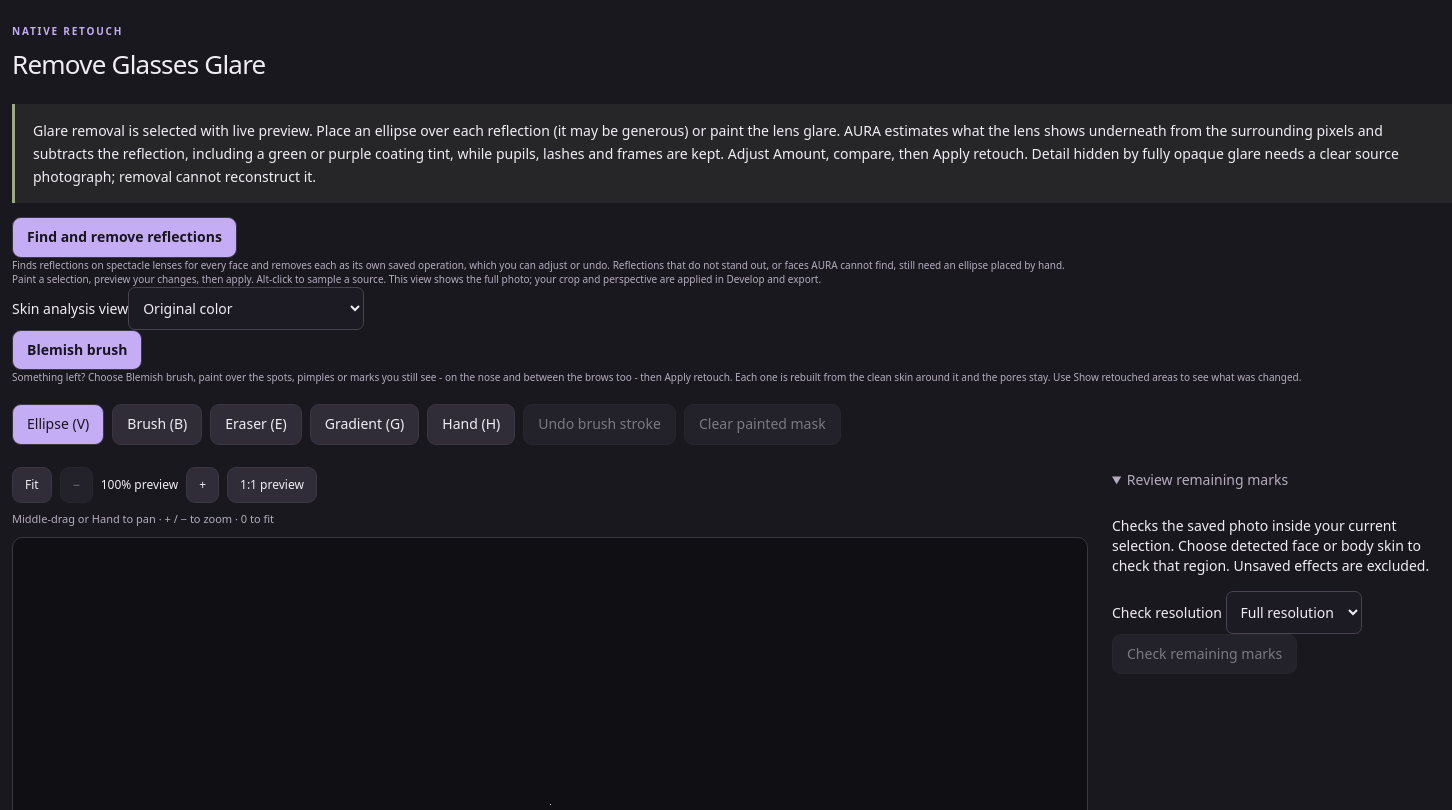
reports when no lens reflection is found and saves nothing
This screenshot has width=1452, height=810.
Click the button "Find and remove reflections" at (124, 237), box [12, 217, 237, 258]
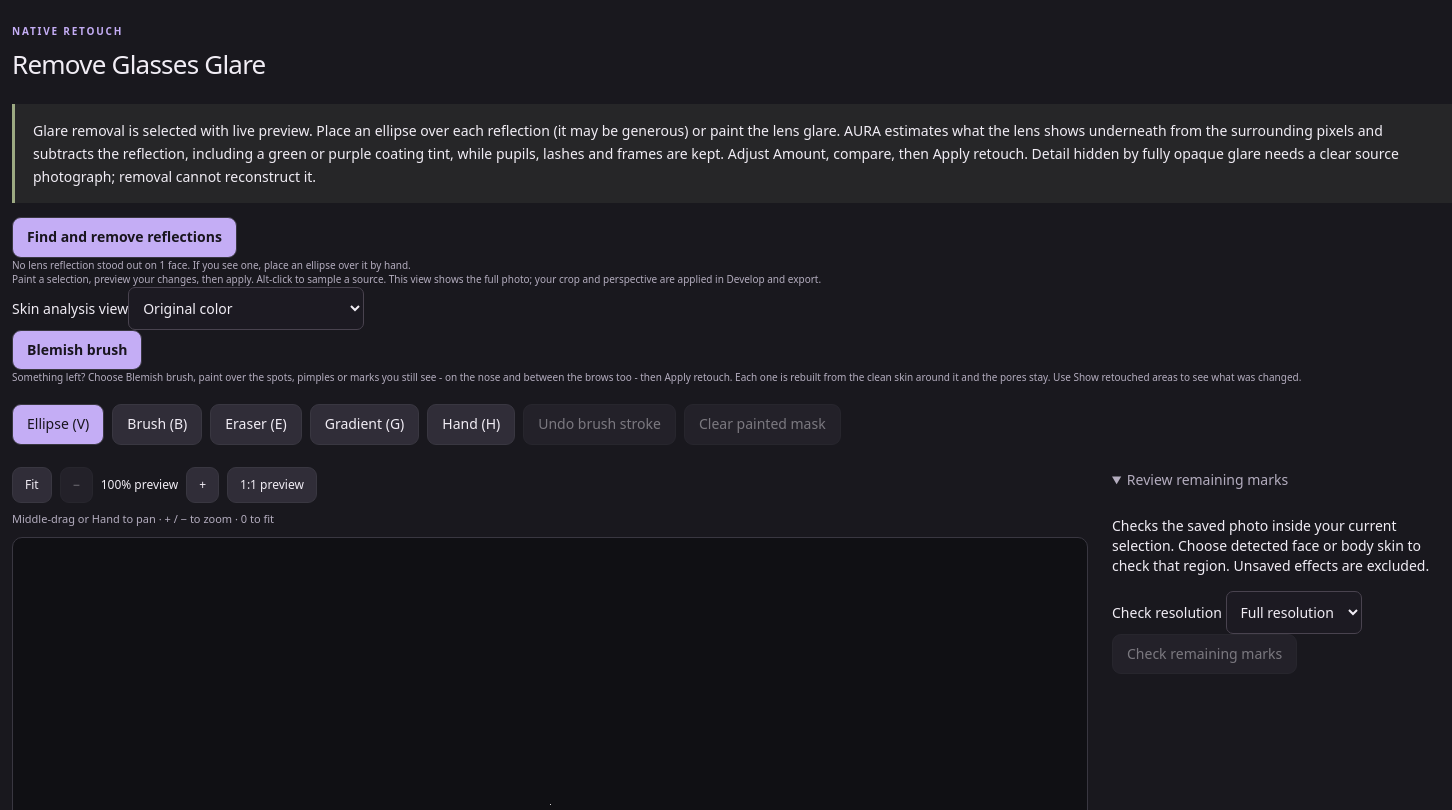
Result: the text "No lens reflection stood out" is shown at [12, 258, 411, 272]
